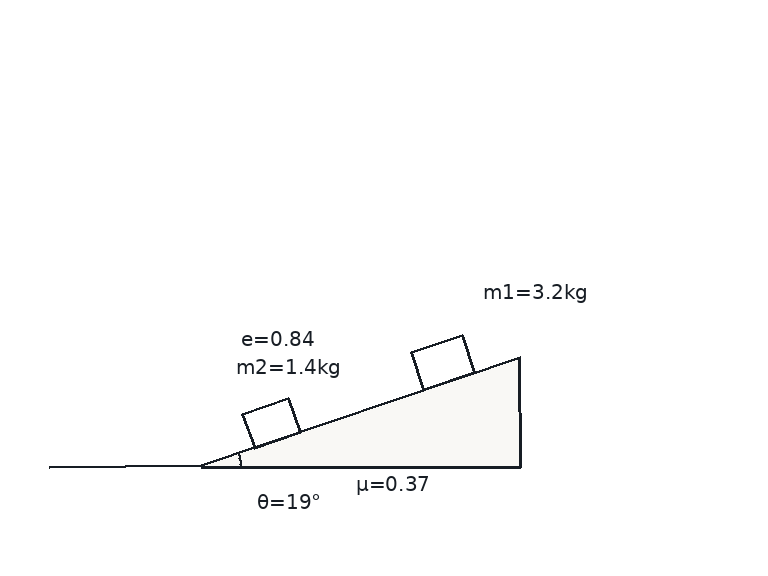block: (409, 333, 476, 391), (241, 396, 302, 450)
ramp: (199, 354, 522, 468)
